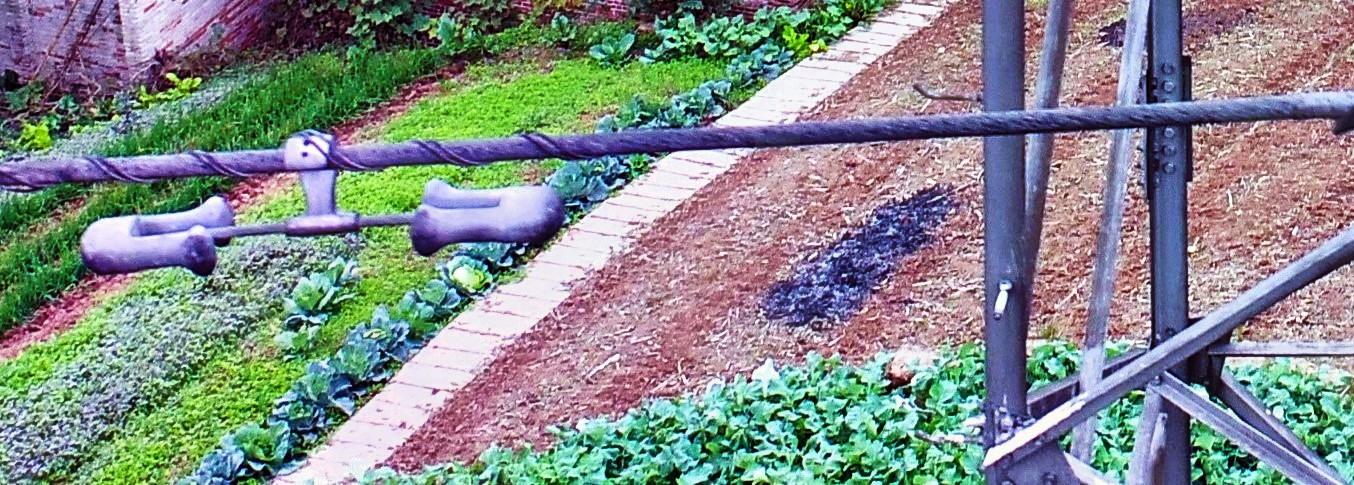Shockproof hammer: (69, 125, 577, 286)
